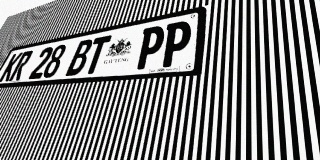2: (28, 46, 55, 79)
8: (41, 43, 69, 78)
B: (65, 38, 94, 76)
K: (0, 52, 23, 82)
P: (159, 19, 193, 68), (134, 24, 167, 70)
R: (8, 50, 34, 81)
T: (82, 35, 112, 75)
